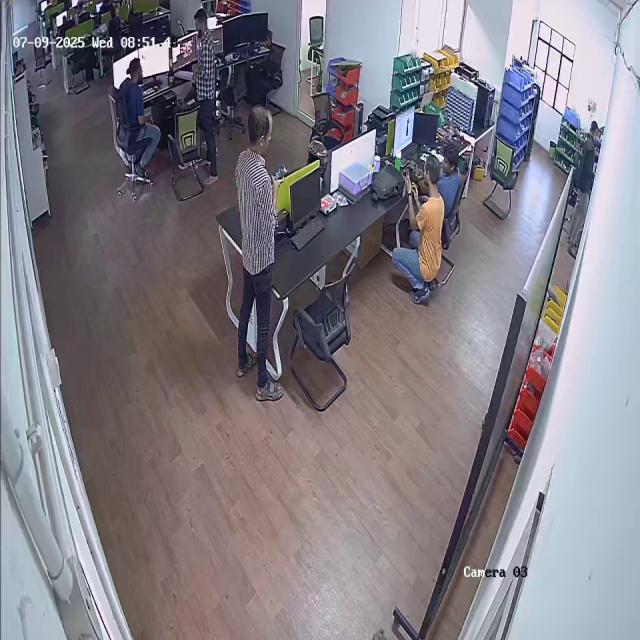person: (226, 105, 285, 402), (394, 155, 444, 299), (189, 10, 224, 184), (122, 58, 161, 172)
